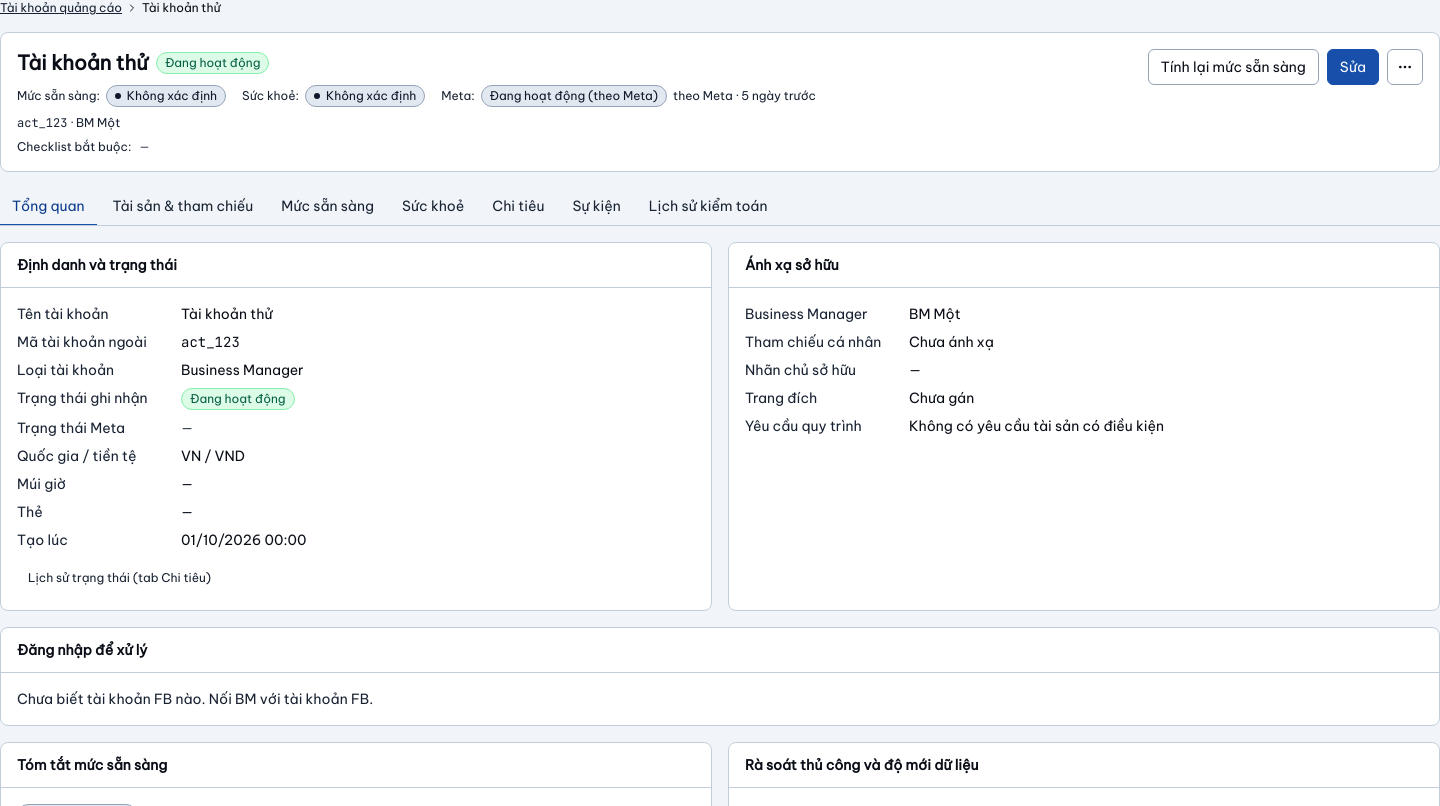
Test: Archive and restore use an AlertDialog, not window.confirm › says so, instead of "success", when the re-read does not show the change
This screenshot has width=1440, height=806.
expect the heading "Tài khoản thử" is shown: met, box [17,49,148,77]
Click the button named "Thêm hành động".
click(1405, 67)  # box [1387,49,1423,85]
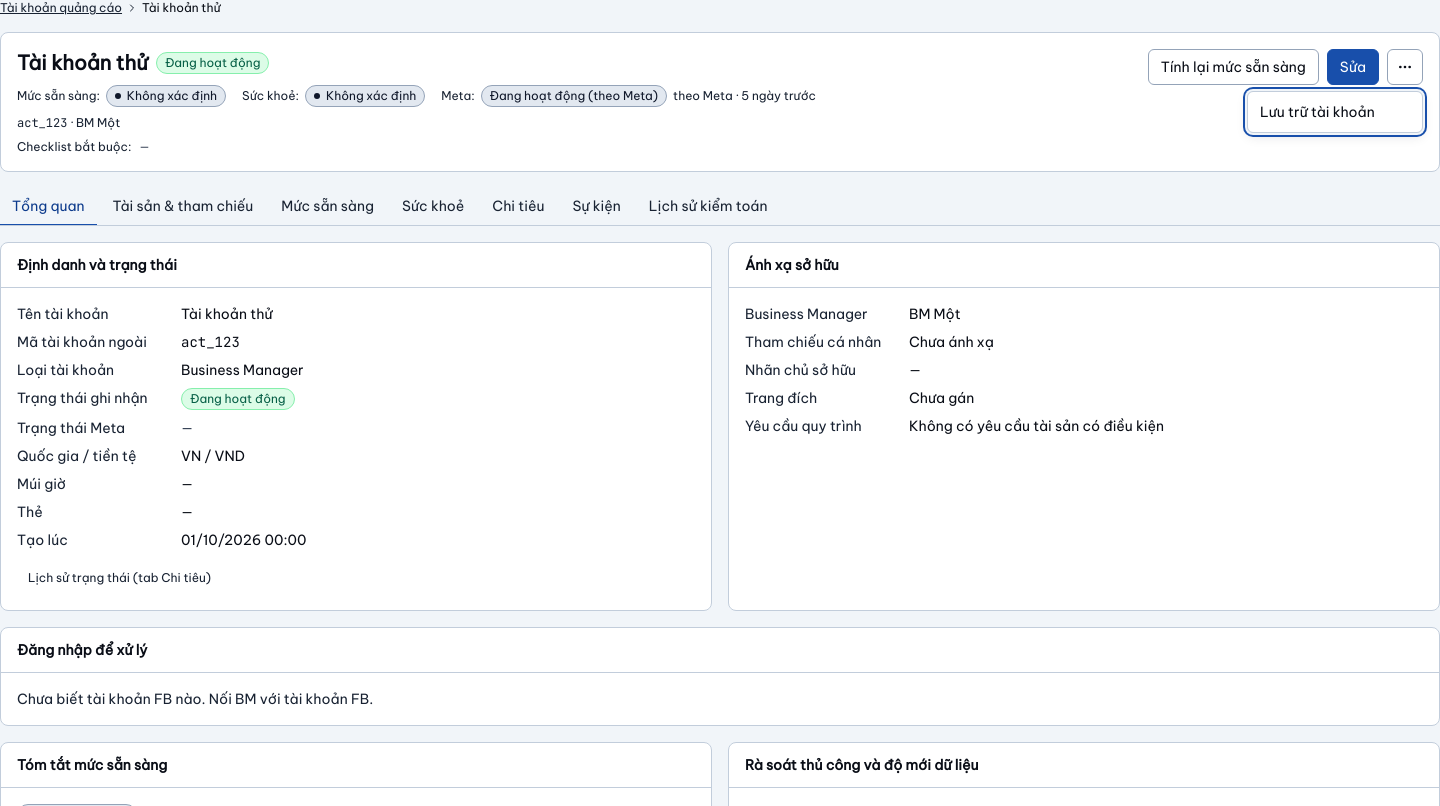
Click the menu item "Lưu trữ tài khoản".
click(1317, 112)  # box [1260,103,1375,121]
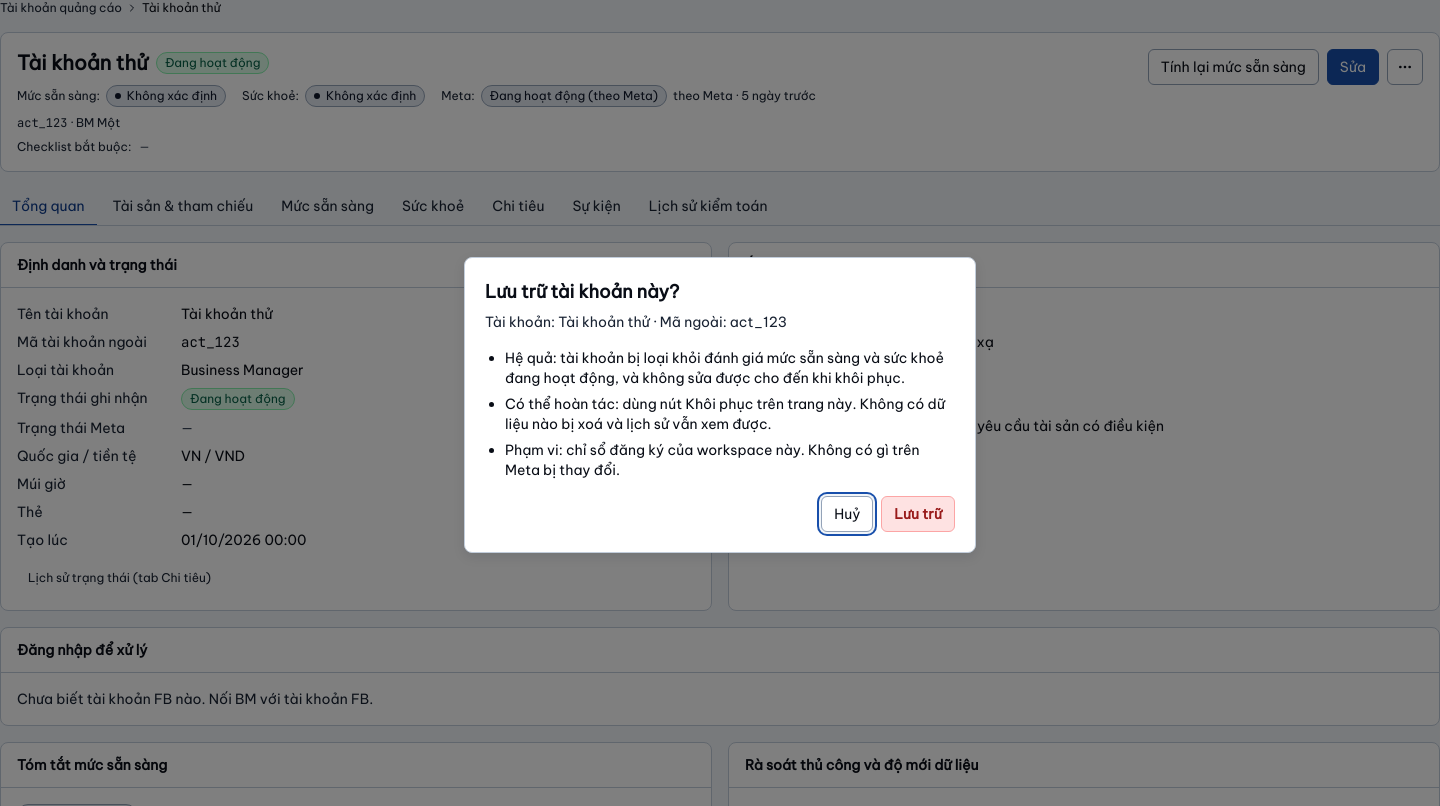
Click the button "Lưu trữ".
click(918, 514)  # box [881,496,955,532]
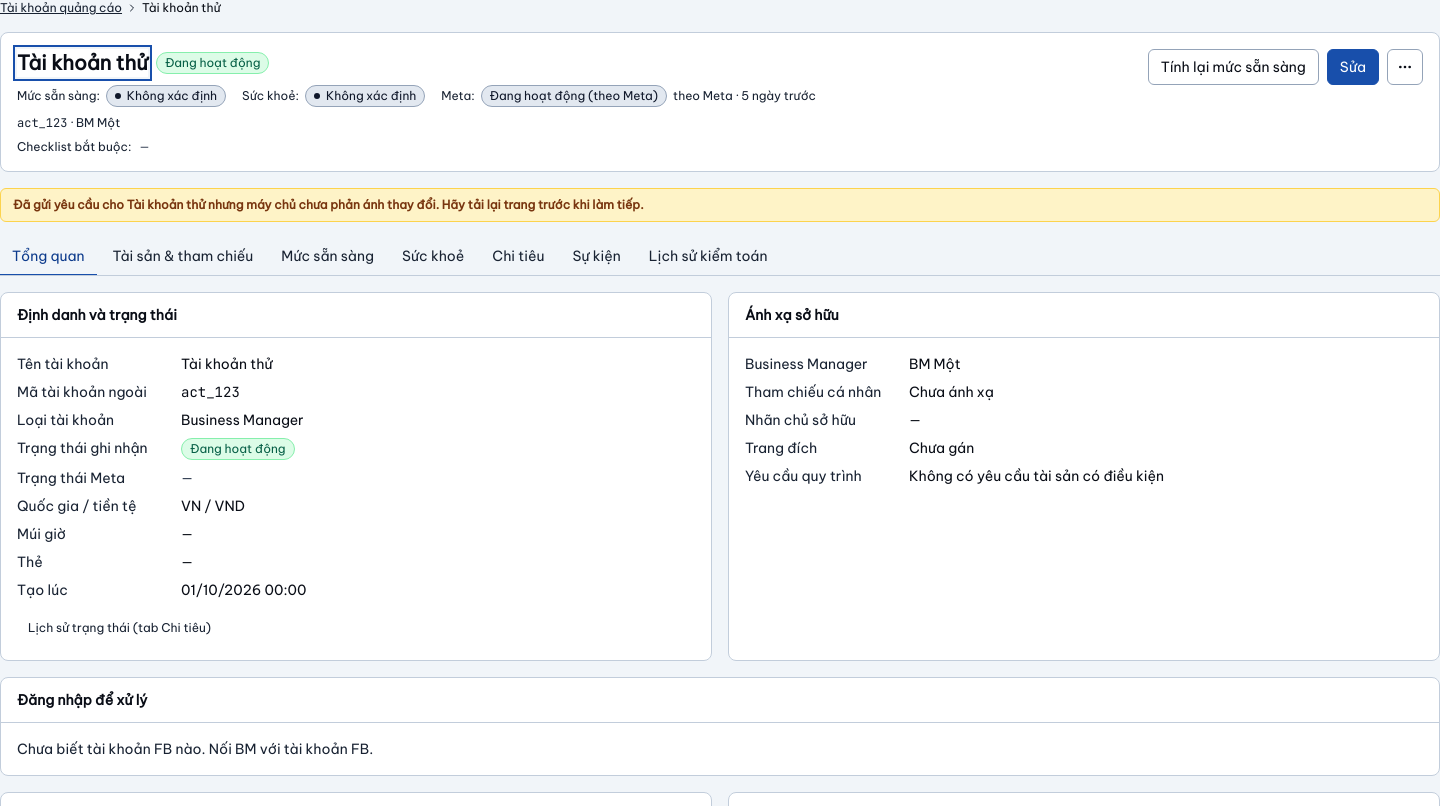
expect the text "máy chủ chưa phản ánh thay đổi" is shown: met, box [13,197,644,212]
